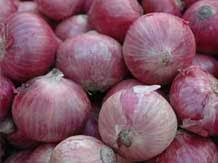onion: (98, 89, 180, 159), (11, 74, 91, 142), (122, 13, 196, 82)
